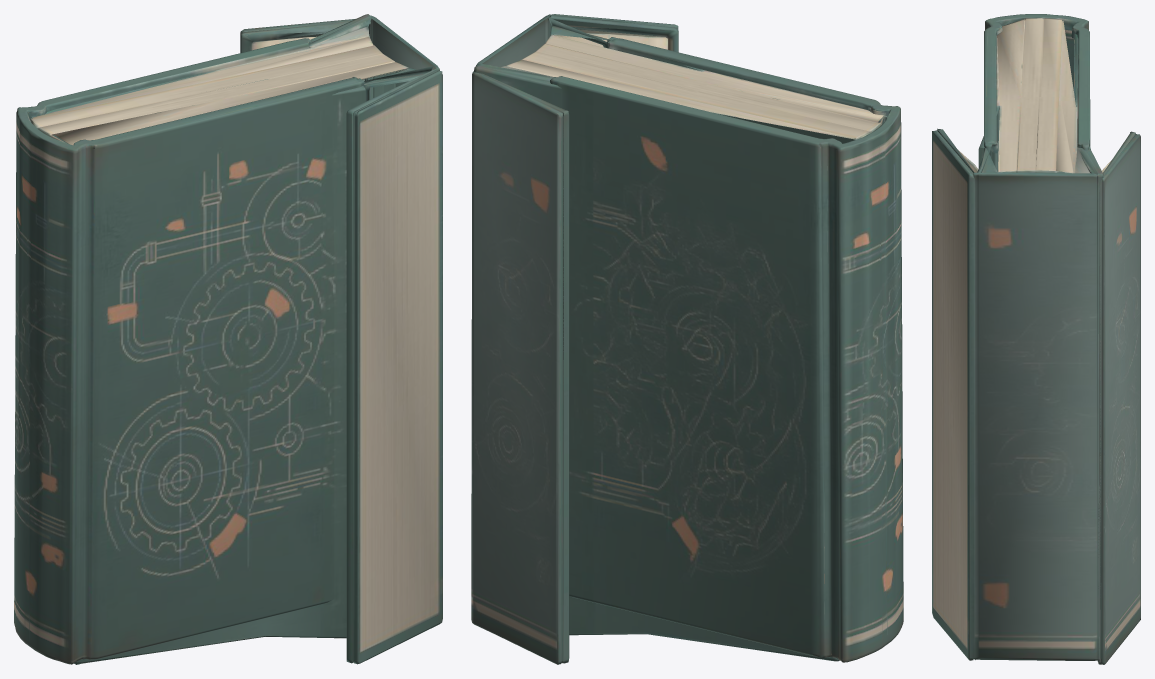
File: maintenance-part-one.glb
The picture shows the model from 3 angles, left to right: view 1: azimuth 30°, elevation 25°; view 2: azimuth 150°, elevation 25°; view 3: azimuth 270°, elevation 25°; orthographic projection. The views are drawn at different scales.
Parts seen in each view (by area): view 1: Maintenance; view 2: Maintenance; view 3: Maintenance.
Part boxes in pixels (box(x1,y1,x2,y2)): Maintenance: box(14, 14, 442, 664); Maintenance: box(471, 14, 903, 664); Maintenance: box(932, 14, 1140, 664).
Size of the model in its own units: 0.709 by 0.998 by 0.3848.
Materials: 1 (1 with a texture image).
